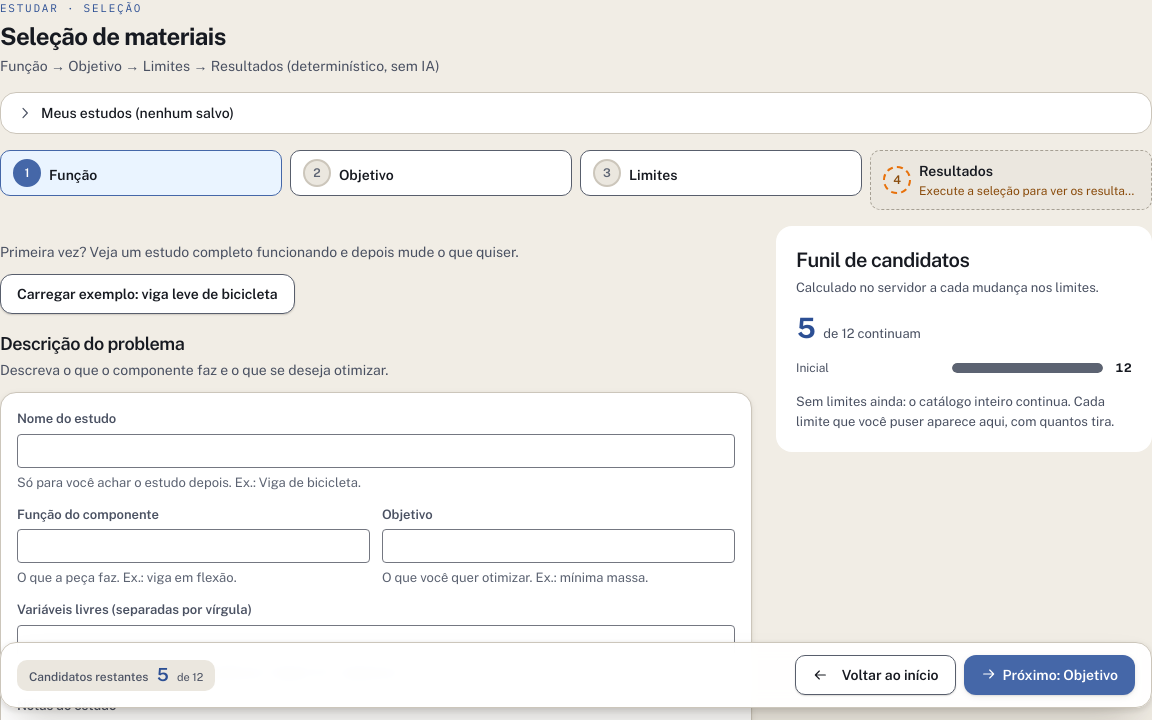
Test case: assistente de seleção › says why the study cannot be saved instead of showing a dead button
This screenshot has width=1152, height=720.
Step 1. Click the button "2 Objetivo" → click(366, 175), box [290,150,572,196]
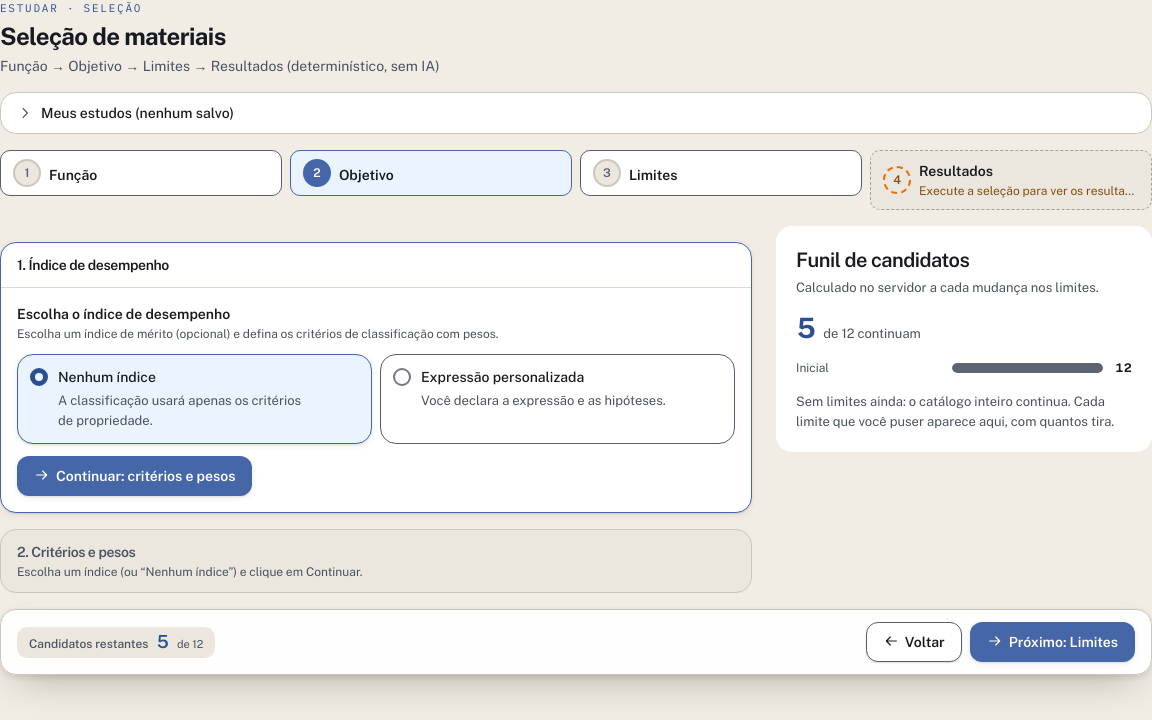
Step 2. Click the button "3 Limites" → click(653, 175), box [580,150,862,196]
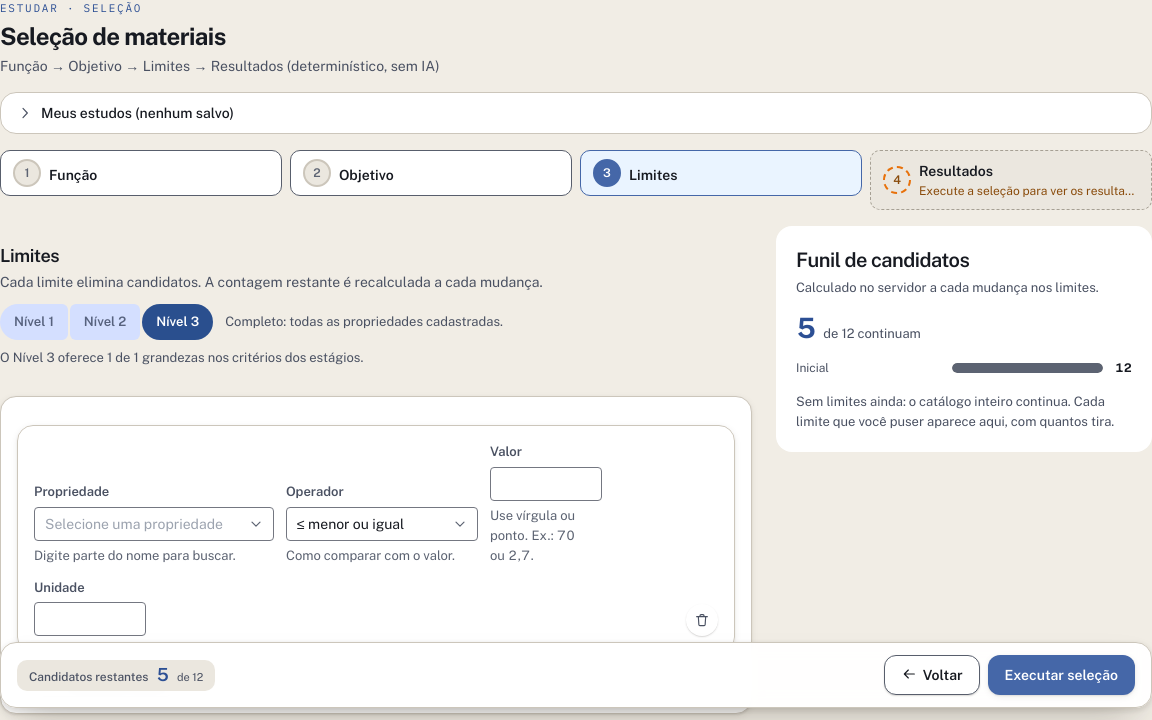
Step 3. Click the button "Executar seleção" → click(1061, 675), box [988,655,1135,695]
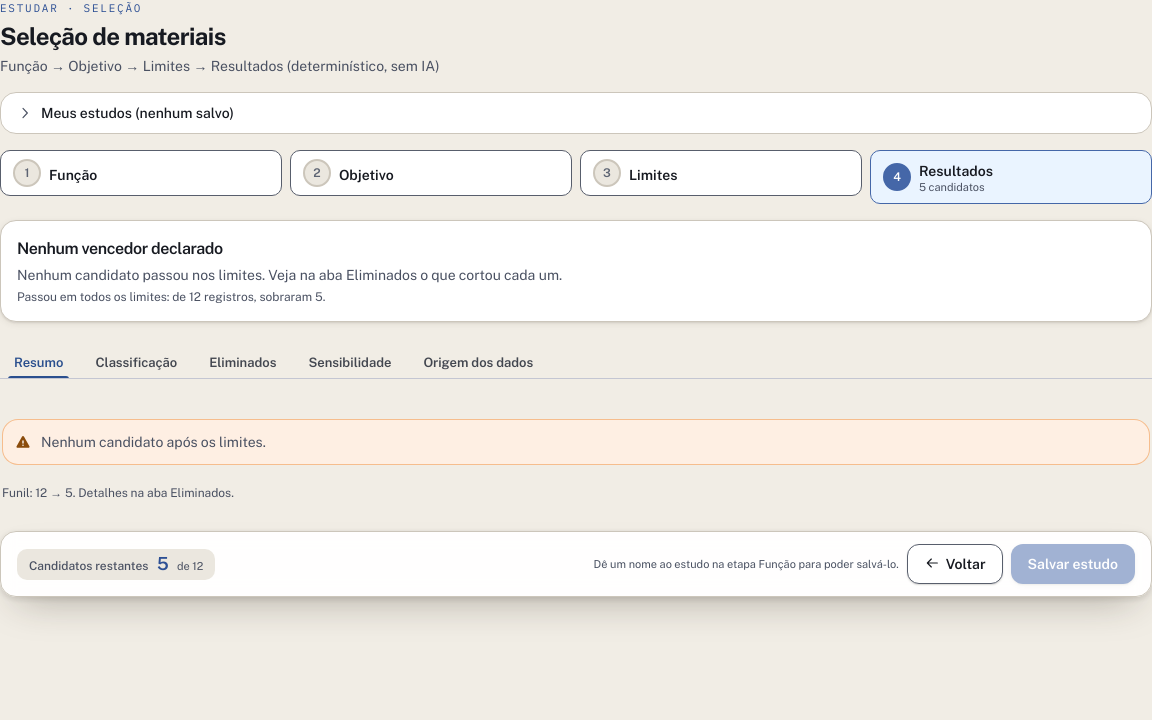
Result: the button "Salvar estudo" is disabled at [1011,544,1135,584]
Result: the text "Dê um nome ao estudo na etapa Função para poder salvá-lo." is shown at [594,556,899,572]
